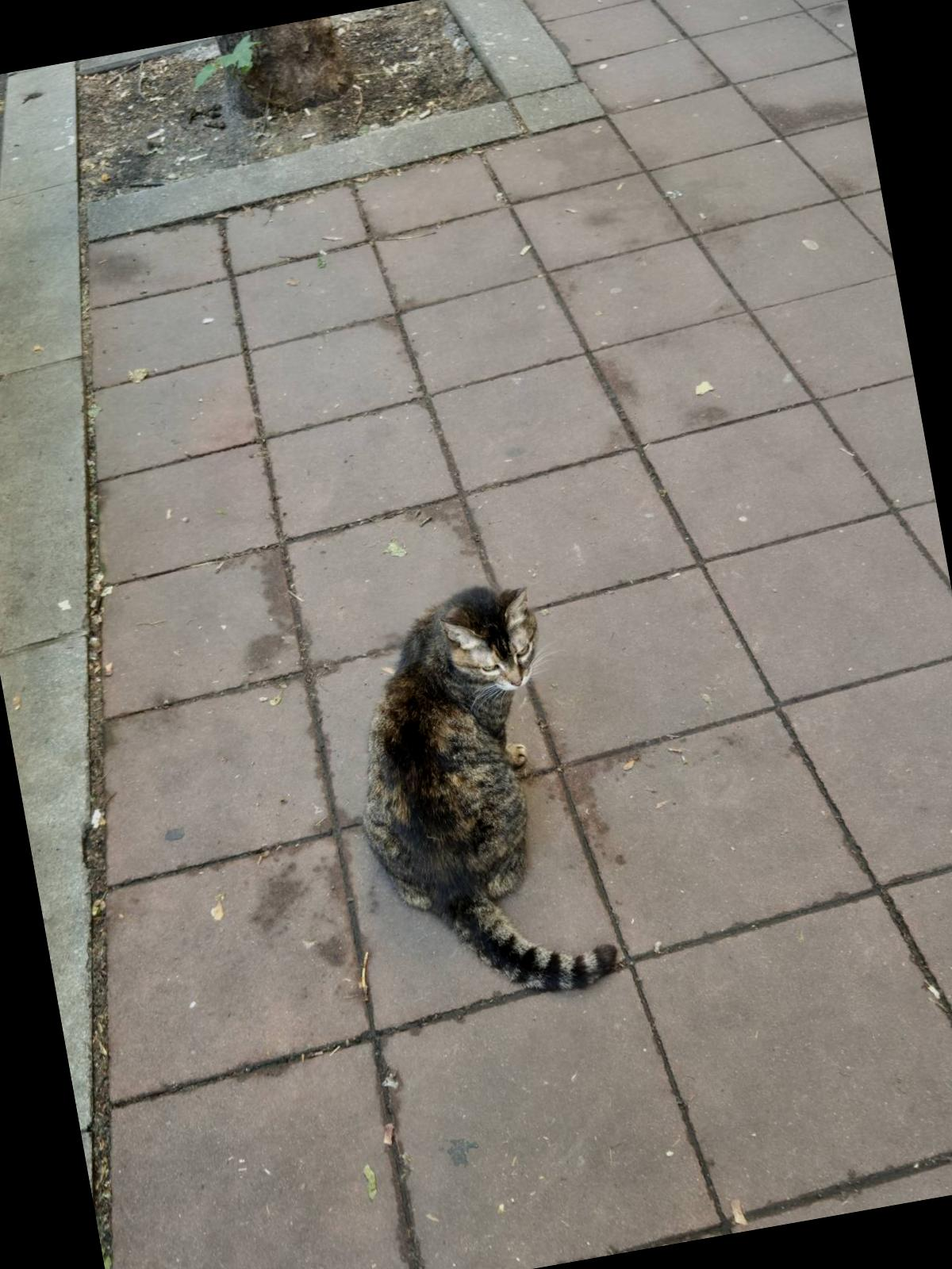macka: (330, 572, 624, 1022)
